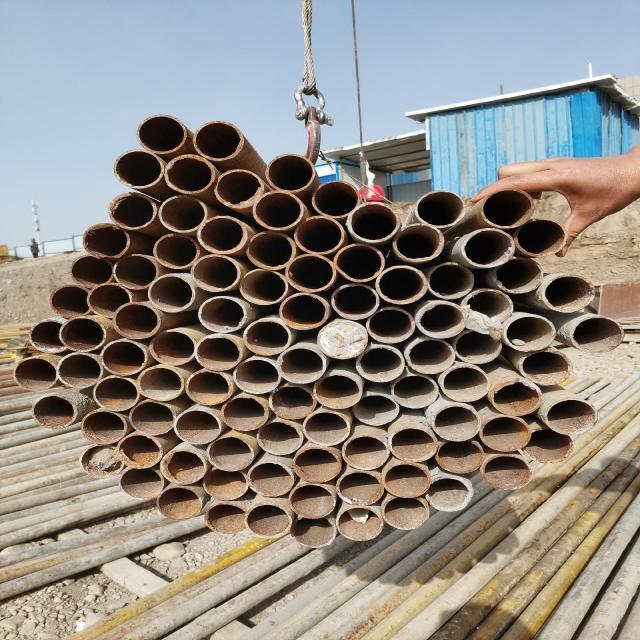pipe: (190, 116, 248, 162), (476, 186, 538, 229), (344, 200, 404, 244), (457, 226, 517, 270), (248, 188, 306, 232), (388, 220, 446, 264), (372, 261, 429, 305), (108, 147, 166, 190), (194, 212, 252, 255), (290, 213, 348, 256), (330, 241, 388, 284), (210, 166, 266, 210), (242, 228, 298, 272), (261, 151, 319, 193), (511, 216, 569, 258), (281, 252, 339, 294), (538, 272, 596, 314), (154, 190, 210, 233), (314, 318, 370, 361), (568, 314, 626, 354), (188, 252, 243, 294), (412, 188, 468, 229), (134, 113, 188, 155), (106, 189, 160, 231), (490, 254, 545, 295), (308, 178, 364, 218), (502, 313, 558, 353), (352, 344, 408, 384), (436, 362, 492, 402), (162, 153, 215, 195), (144, 272, 197, 314), (327, 281, 382, 321), (277, 290, 332, 330), (193, 294, 248, 334), (417, 298, 469, 340), (149, 230, 203, 270), (236, 267, 290, 307), (109, 300, 163, 340), (96, 337, 150, 377), (478, 413, 532, 453), (520, 424, 574, 464), (192, 332, 245, 372), (380, 460, 433, 500), (429, 402, 482, 442), (516, 349, 573, 386), (460, 286, 514, 325), (239, 318, 293, 357), (403, 338, 458, 376), (290, 446, 345, 484), (332, 469, 387, 507), (479, 453, 534, 491), (80, 220, 132, 260), (424, 260, 476, 300), (114, 430, 166, 470), (204, 433, 256, 473), (286, 481, 338, 521), (362, 306, 415, 345), (183, 367, 236, 406), (333, 504, 386, 543), (133, 364, 187, 402), (310, 372, 364, 410), (544, 397, 598, 435), (299, 408, 353, 446), (338, 433, 392, 471), (276, 345, 327, 385), (490, 378, 542, 417), (388, 424, 440, 463), (422, 473, 474, 512), (56, 315, 109, 353), (379, 494, 432, 532), (434, 438, 487, 476), (54, 350, 104, 390), (147, 327, 197, 367), (230, 356, 280, 396), (452, 328, 504, 366), (218, 394, 270, 432), (78, 408, 130, 446), (172, 407, 224, 445), (157, 448, 209, 486), (200, 464, 252, 502), (244, 460, 296, 498), (9, 355, 60, 393), (90, 374, 141, 412), (287, 512, 338, 550), (266, 384, 318, 421), (388, 373, 441, 409), (348, 392, 401, 428), (110, 252, 160, 290), (85, 282, 135, 320), (29, 392, 79, 430), (126, 398, 176, 436), (252, 418, 302, 456), (46, 282, 95, 320), (242, 502, 292, 539), (65, 253, 116, 289), (76, 443, 127, 479), (153, 484, 204, 520), (116, 464, 166, 499), (25, 317, 69, 355), (203, 501, 250, 535)
